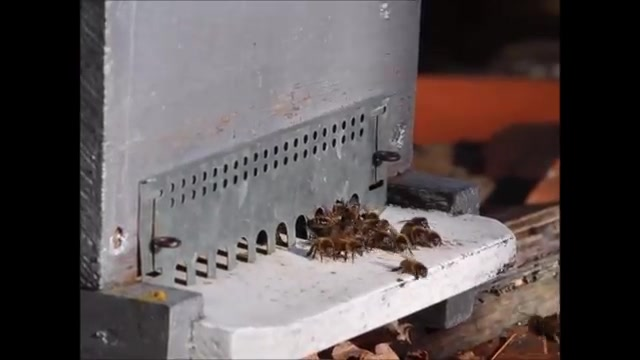bee: (330, 230, 365, 257), (395, 256, 431, 279), (309, 214, 346, 232), (399, 214, 429, 236), (310, 237, 341, 258), (371, 220, 397, 242), (415, 230, 444, 247)
hornet: (523, 306, 563, 344)
